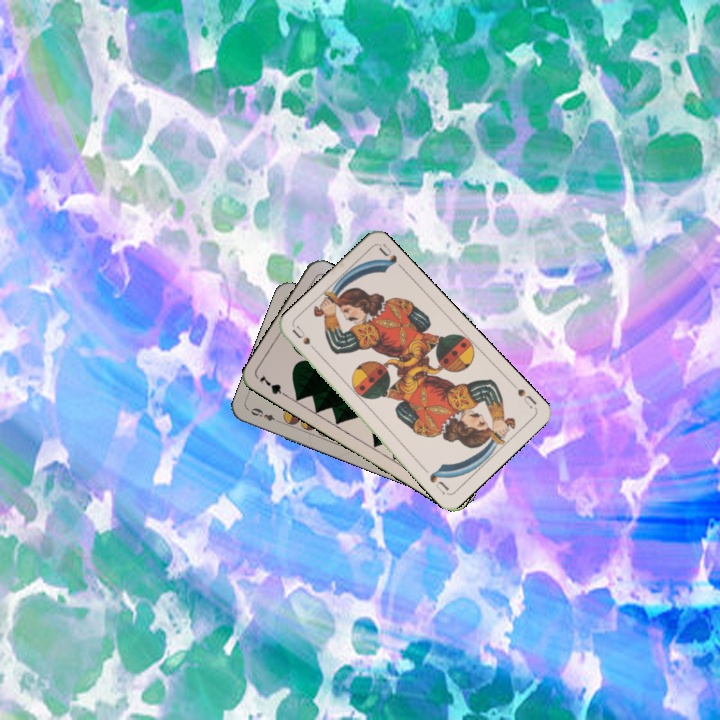E9: (246, 404, 284, 426)
G7: (255, 371, 292, 401)
SU: (288, 323, 322, 357), (514, 384, 539, 411)
